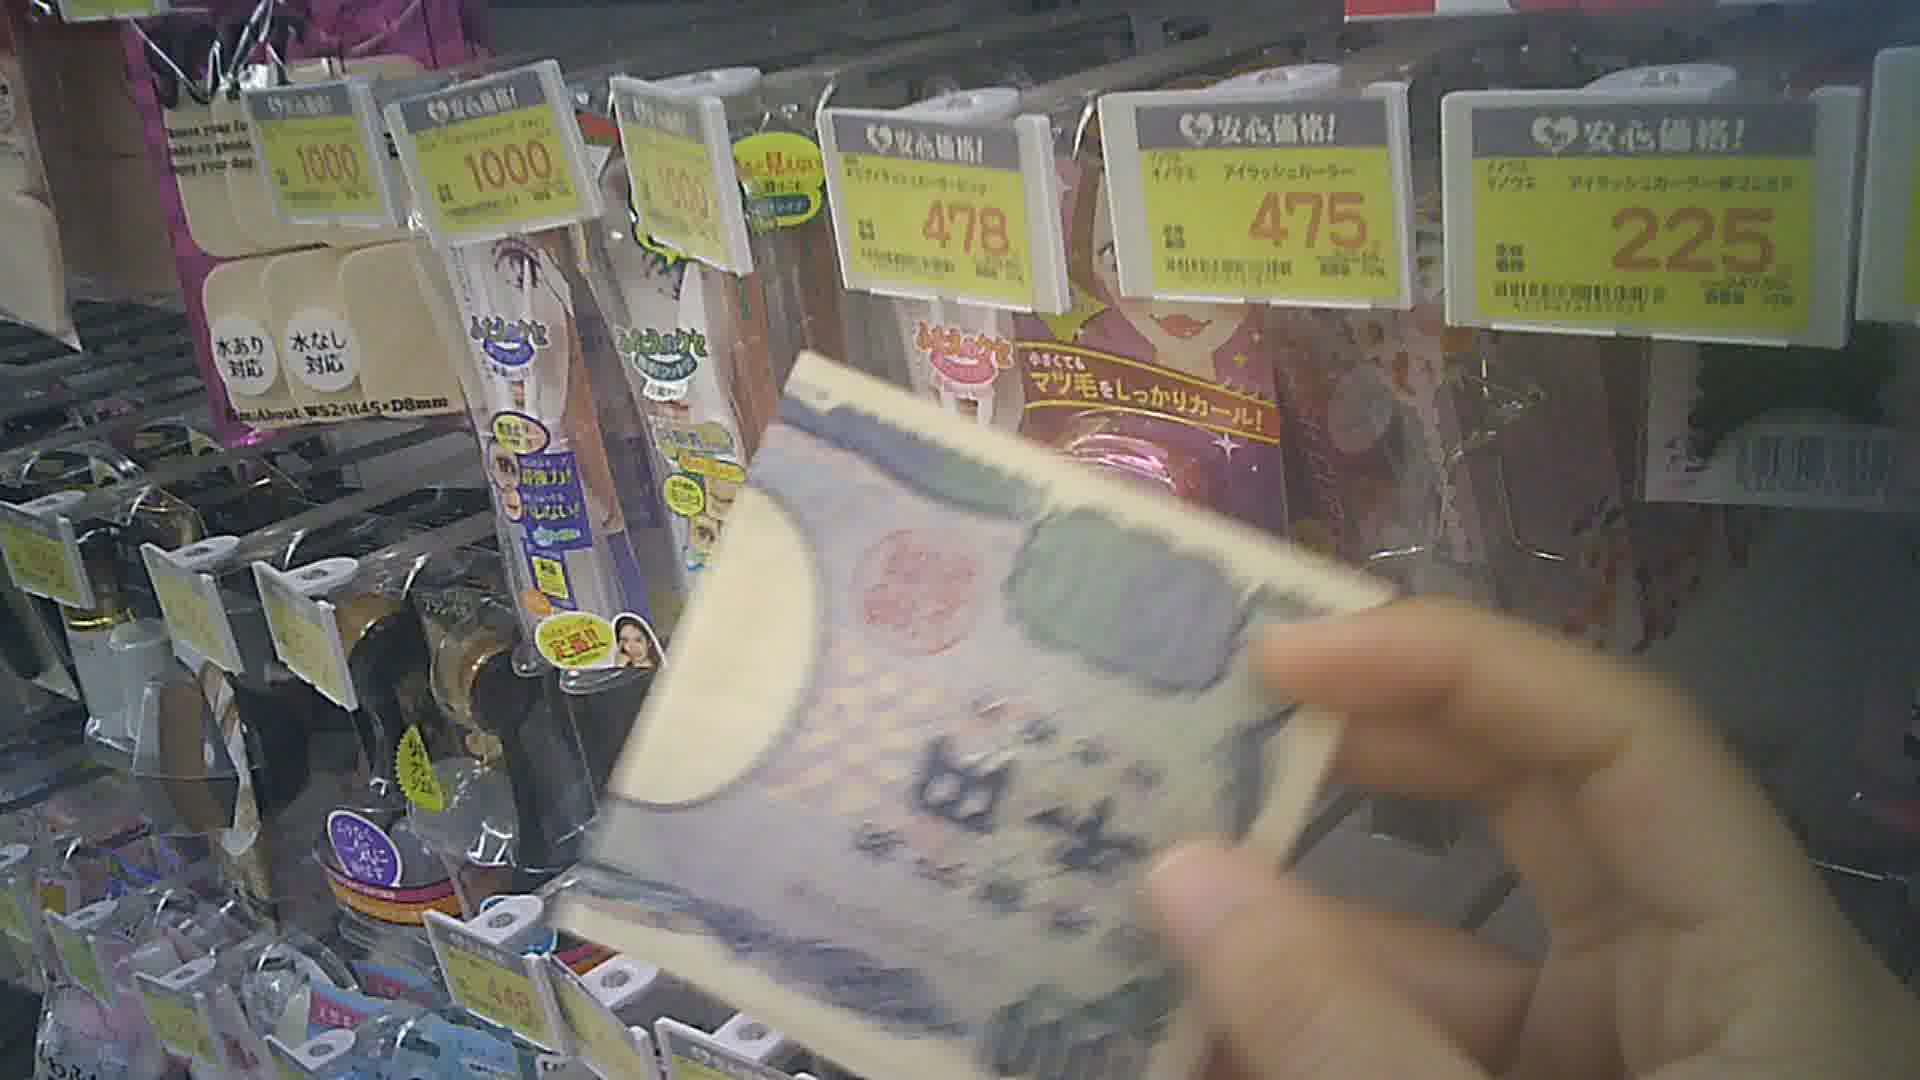1,000 Yen: (579, 338, 1364, 1079)
